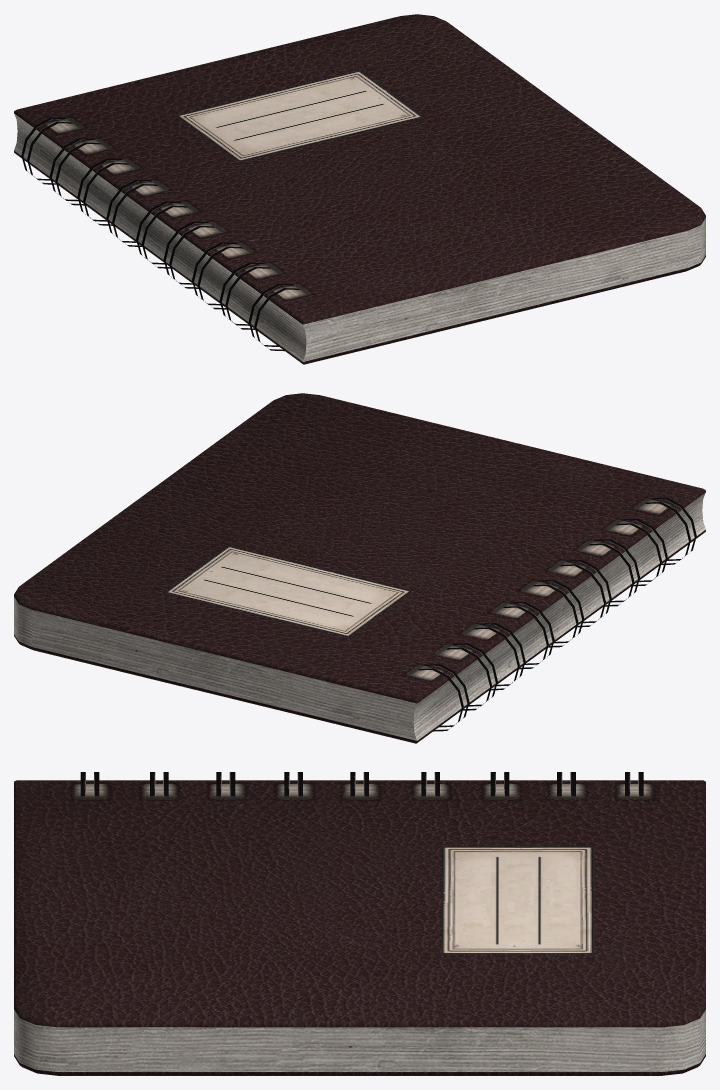
Rendered from book_notebook_erins.dae.
The picture shows the model from 3 angles, top to bottom: view 1: azimuth 30°, elevation 25°; view 2: azimuth 150°, elevation 25°; view 3: azimuth 270°, elevation 25°; orthographic projection. The views are drawn at different scales.
Visible parts, largest first — view 1: polySurface42; view 2: polySurface42; view 3: polySurface42.
Boxes of the visible parts, x1,y1,x2,y2 form: polySurface42: [14, 14, 705, 364]; polySurface42: [14, 393, 705, 743]; polySurface42: [14, 772, 705, 1075].
Bounding box in the file's own units: 0.215 × 0.0292 × 0.2473.
